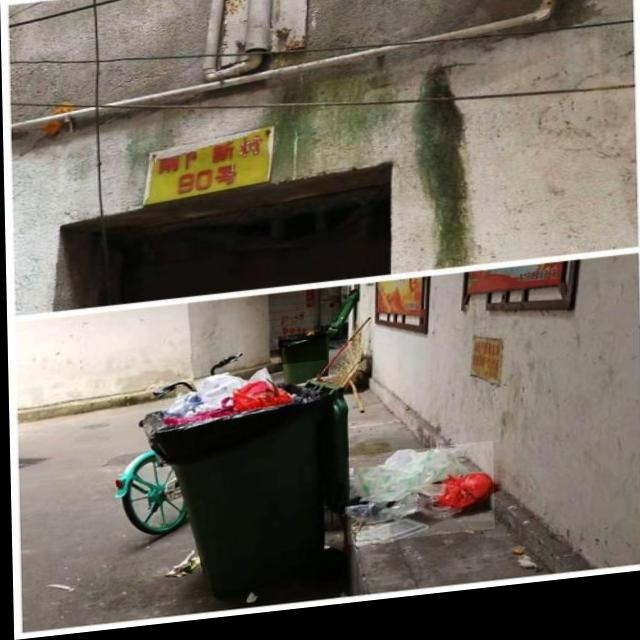garbage: (340, 452, 492, 553)
garbage_bin: (277, 339, 325, 389)
overflow: (139, 366, 346, 611)
